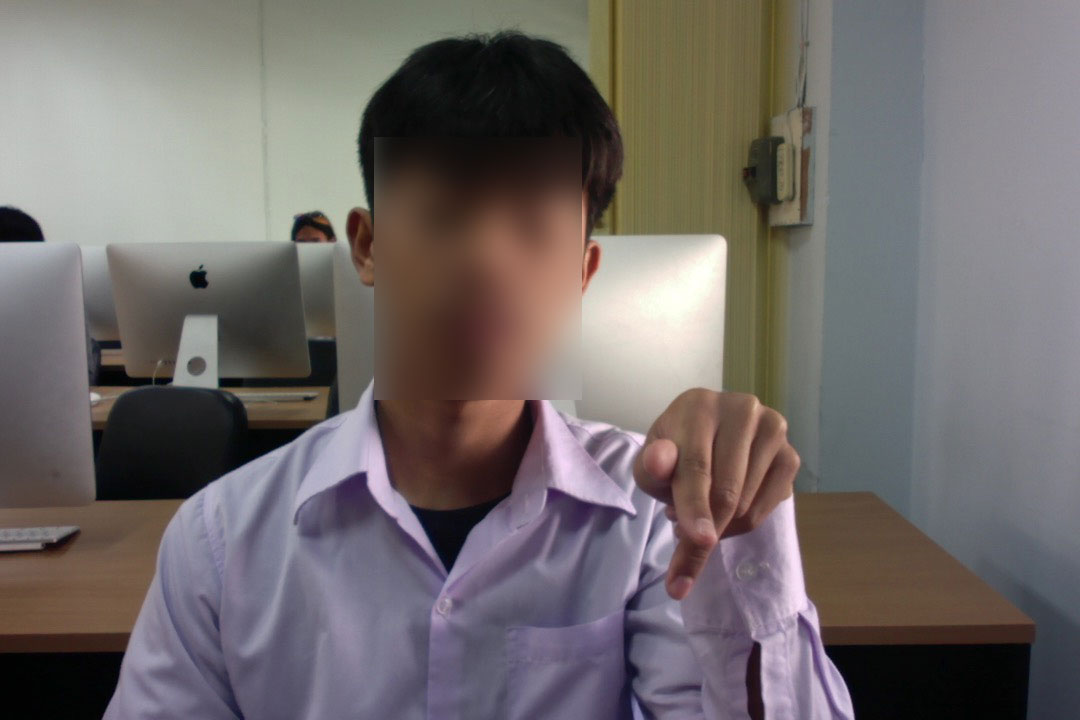por: (633, 371, 802, 602)
